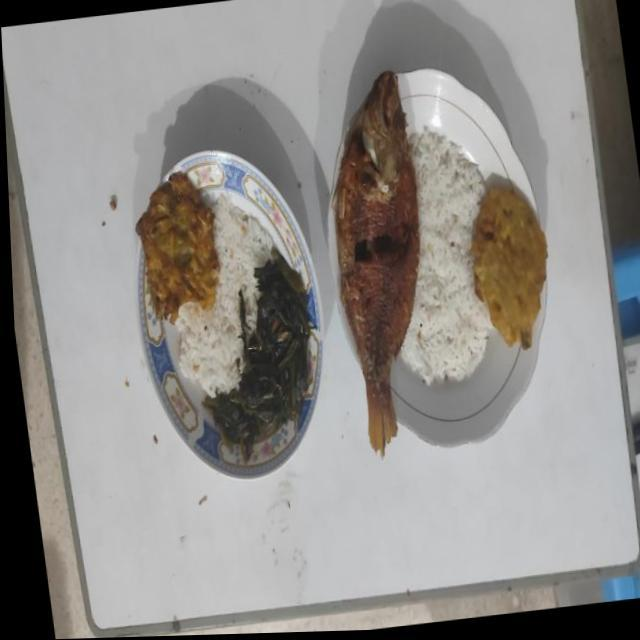ikan_mujair: (334, 70, 419, 456)
nasi_putih: (400, 128, 492, 385), (175, 194, 272, 396)
tumis_kangkung: (202, 247, 315, 460)
